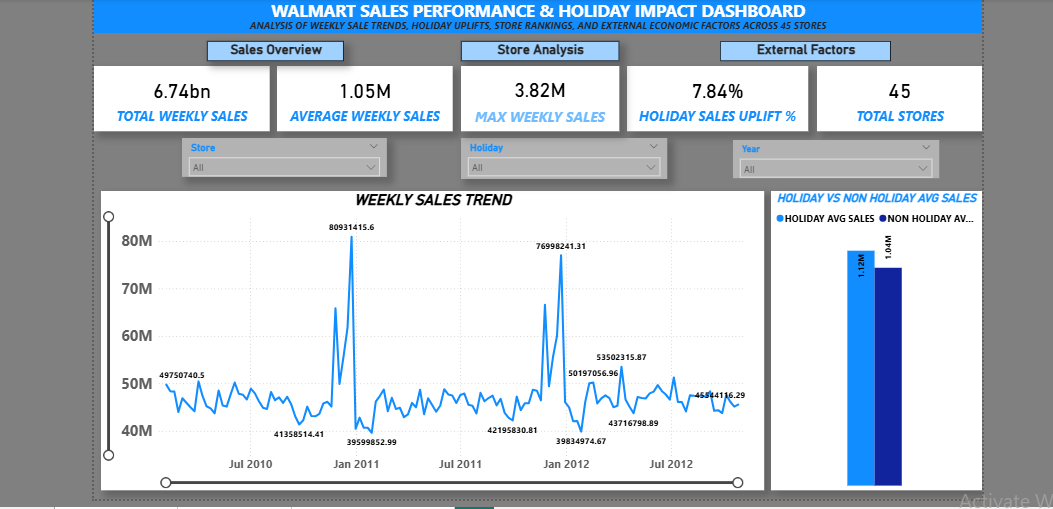

The page's visual inventory and layout, read from the dashboard file:
{"tool":"powerbi","page":{"name":"Sales Overview","canvas":[1280,720],"ordinal":0},"visuals":[{"type":"card","fields":{"Values":["Sum(Walmart.Weekly_Sales)"]},"box":[0,96.5,253.4,93.6],"z":0},{"type":"card","fields":{"Values":["Walmart.Average weekly sales"]},"box":[263.5,96.5,253.4,93.6],"z":1000},{"type":"card","fields":{"Values":["Walmart.holiday sales uplift %"]},"box":[767.5,96.5,260.6,93.6],"z":2000},{"type":"card","fields":{"Values":["Count(Walmart.Store)"]},"box":[1041.1,96.5,239,93.6],"z":3000},{"type":"lineChart","title":"WEEKLY SALES TREND","fields":{"Y":["Sum(Walmart.Weekly_Sales)"],"Category":["Walmart.Date"]},"box":[10.1,276.5,954.7,430.6],"z":4000},{"type":"shape","title":"WALMART SALES PERFORMANCE & HOLIDAY IMPACT DASHBOARD","box":[0,0,1279.5,48.7],"z":5000},{"type":"textbox","box":[0,24.1,1279.3,36.2],"z":6000},{"type":"slicer","fields":{"Values":["Walmart.Store"]},"box":[126.7,200.2,295.2,56.2],"z":7000},{"type":"slicer","fields":{"Values":["Walmart.IsHoliday"]},"box":[528.5,200.2,296.6,59],"z":8000},{"type":"slicer","fields":{"Values":["Walmart.Date.Variation.Date Hierarchy.Year"]},"box":[920.2,203,296.6,54.7],"z":9000},{"type":"actionButton","title":"External Factors","box":[901.4,60.5,246.2,28.8],"z":10000},{"type":"actionButton","title":"Sales Overview","box":[162.7,60.5,197.3,28.8],"z":11000},{"type":"actionButton","title":"Store Analysis","box":[528.5,60.5,227.5,28.8],"z":12000},{"type":"card","fields":{"Values":["Correlation_Table.Maximum Weekly Sales"]},"box":[528.5,96.5,227.5,93.6],"z":13000},{"type":"clusteredColumnChart","title":"HOLIDAY VS NON HOLIDAY AVG SALES","fields":{"Y":["Walmart.Holiday average","Walmart.Non Holiday Average"]},"box":[974.9,276.5,303.8,430.6],"z":14000}]}

Visuals, with their boxes on the page's 1280x720 design canvas (x1, y1, x2, y2). These are canvas units, not pixel positions in the 1053x509 screenshot, which may show the page scaled, cropped or inside an application window:
card - Sum(Walmart.Weekly_Sales): box(0, 96, 253, 190)
card - Walmart.Average weekly sales: box(264, 96, 517, 190)
card - Walmart.holiday sales uplift %: box(768, 96, 1028, 190)
card - Count(Walmart.Store): box(1041, 96, 1280, 190)
"WEEKLY SALES TREND" lineChart: box(10, 276, 965, 707)
"WALMART SALES PERFORMANCE & HOLIDAY IMPACT DASHBOARD" shape: box(0, 0, 1280, 49)
textbox: box(0, 24, 1279, 60)
slicer - Walmart.Store: box(127, 200, 422, 256)
slicer - Walmart.IsHoliday: box(528, 200, 825, 259)
slicer - Walmart.Date.Variation.Date Hierarchy.Year: box(920, 203, 1217, 258)
"External Factors" actionButton: box(901, 60, 1148, 89)
"Sales Overview" actionButton: box(163, 60, 360, 89)
"Store Analysis" actionButton: box(528, 60, 756, 89)
card - Correlation_Table.Maximum Weekly Sales: box(528, 96, 756, 190)
"HOLIDAY VS NON HOLIDAY AVG SALES" clusteredColumnChart: box(975, 276, 1279, 707)
